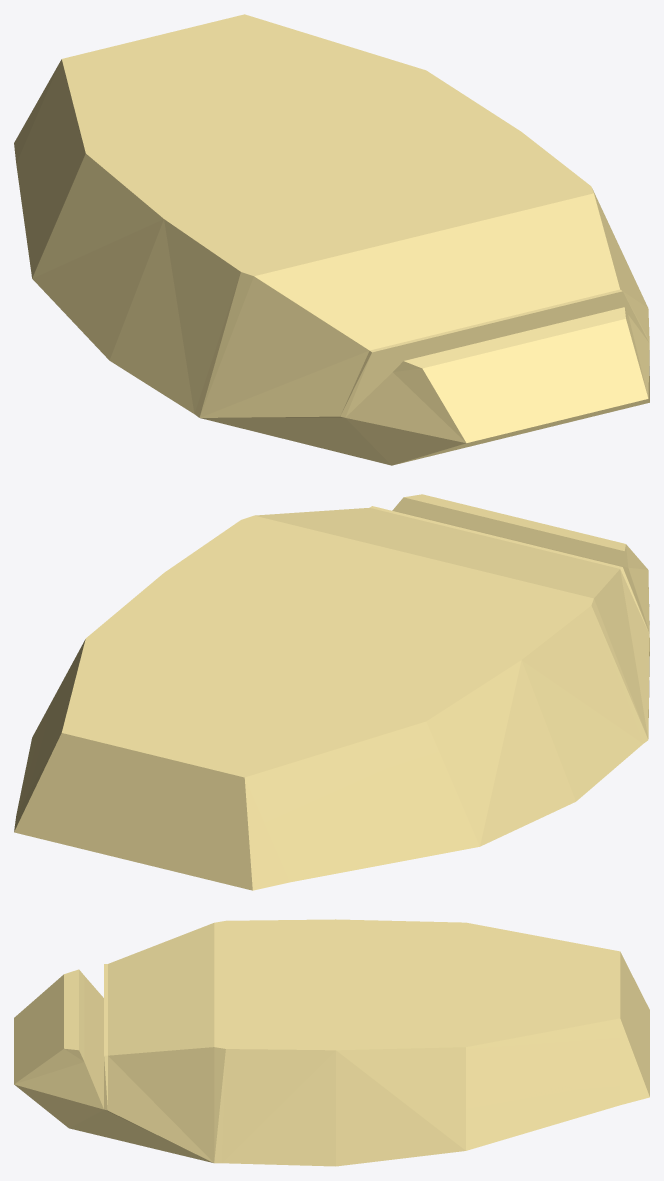
The model's file is turret.glb.
The picture shows the model from 3 angles, top to bottom: view 1: azimuth 30°, elevation 25°; view 2: azimuth 150°, elevation 25°; view 3: azimuth 270°, elevation 25°; orthographic projection. The views are drawn at different scales.
Visible parts, largest first — view 1: turret; view 2: turret; view 3: turret.
Part boxes in pixels (x1,y1,x2,y2): turret: [14, 14, 649, 465]; turret: [14, 494, 649, 890]; turret: [14, 919, 649, 1166].
Size of the model in its own units: 2.66 by 0.6988 by 4.18.
